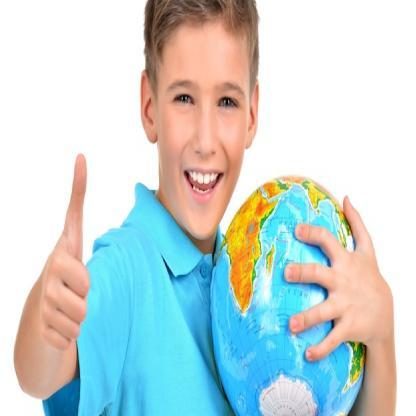thumb_up: (32, 145, 96, 352)
